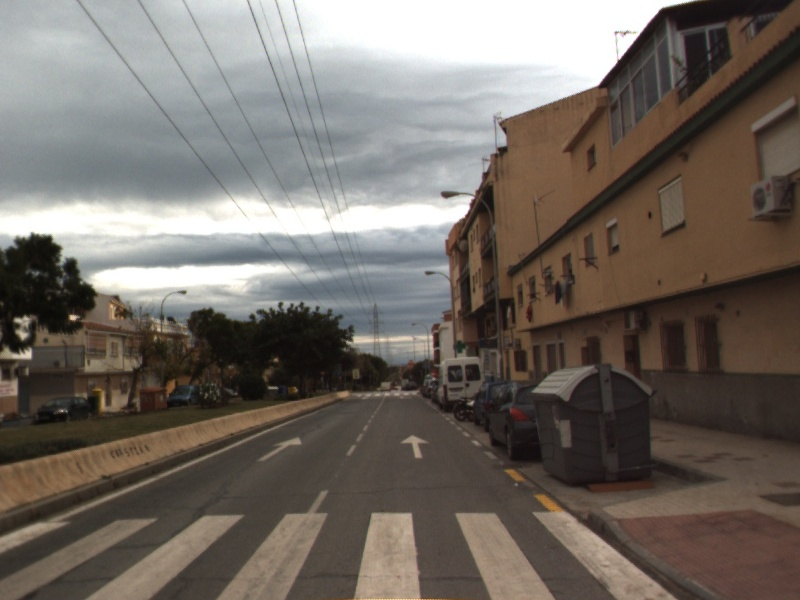STRAIGHT: (254, 435, 304, 464), (398, 432, 432, 460)
